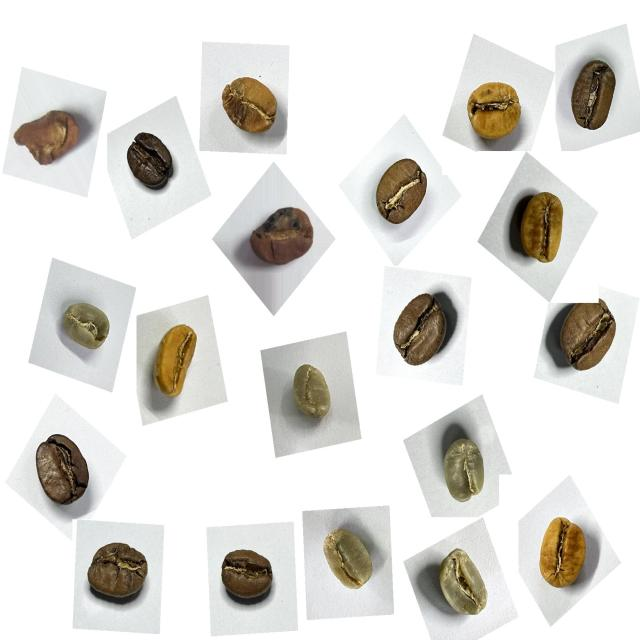bad: (242, 193, 323, 278), (12, 98, 91, 179)
dark: (119, 120, 184, 201)
green: (426, 543, 500, 633), (310, 517, 385, 605), (428, 426, 497, 516), (280, 353, 344, 435), (53, 291, 119, 365)
light: (528, 509, 602, 604), (507, 182, 579, 278), (145, 314, 213, 411), (212, 64, 288, 148), (458, 68, 534, 150)
medium: (379, 278, 461, 381), (547, 296, 629, 388), (26, 426, 100, 518), (80, 530, 158, 615), (364, 148, 438, 237), (560, 52, 629, 144), (214, 537, 284, 615)
